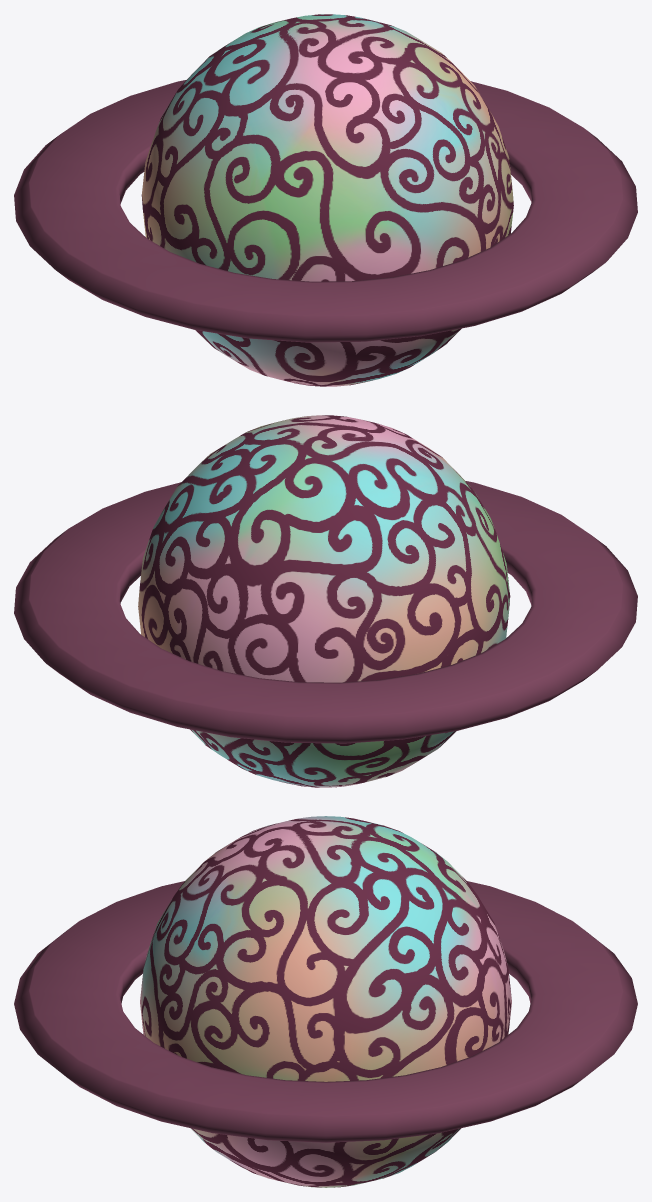
Rendered from Planeta2.glb.
3 renders of one model, top to bottom at view 1: azimuth 30°, elevation 25°; view 2: azimuth 150°, elevation 25°; view 3: azimuth 270°, elevation 25°, orthographic.
Parts seen in each view (by area): view 1: Planet2; view 2: Planet2; view 3: Planet2.
Part boxes in pixels (x1,y1,x2,y2): Planet2: (14, 14, 637, 386); Planet2: (14, 415, 637, 787); Planet2: (14, 816, 637, 1187).
Size of the model in its own units: 3.35 by 2 by 3.35.
2 materials, 1 textured.
